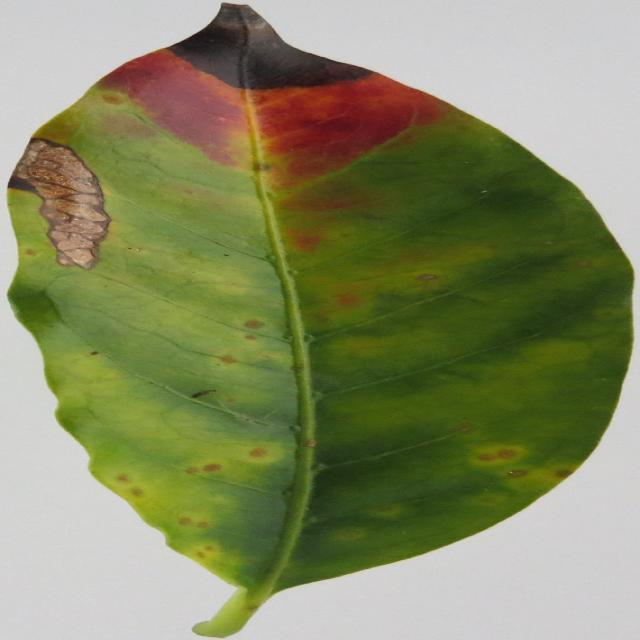DeficienciaNutricional-Fosforo: (9, 4, 630, 636)
